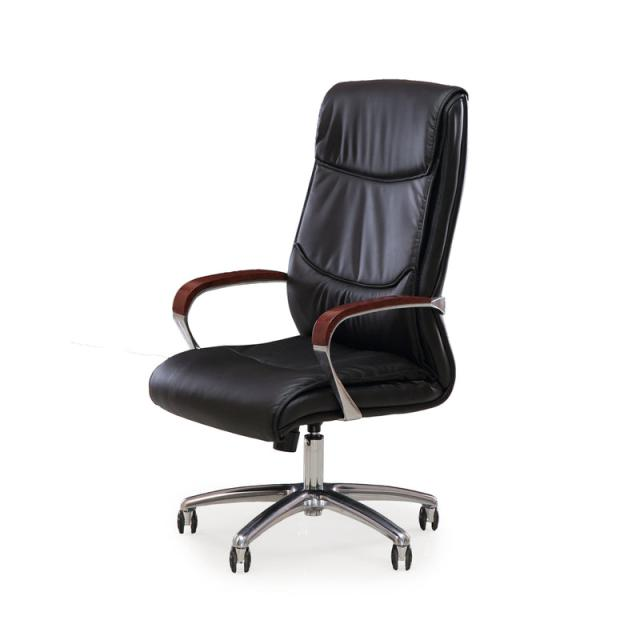chair: (147, 77, 470, 574)
